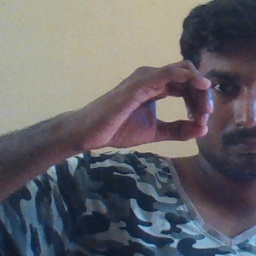O: (83, 51, 214, 158)
